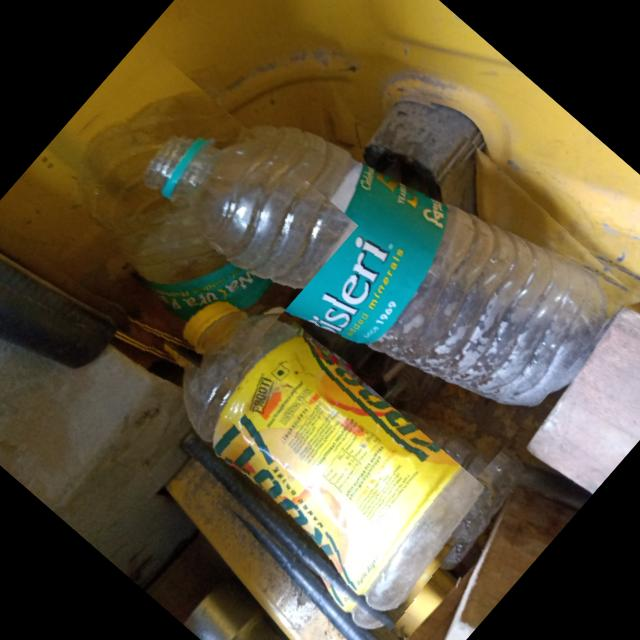plastic bottle: (100, 0, 640, 495), (96, 259, 502, 640), (61, 80, 297, 369)
